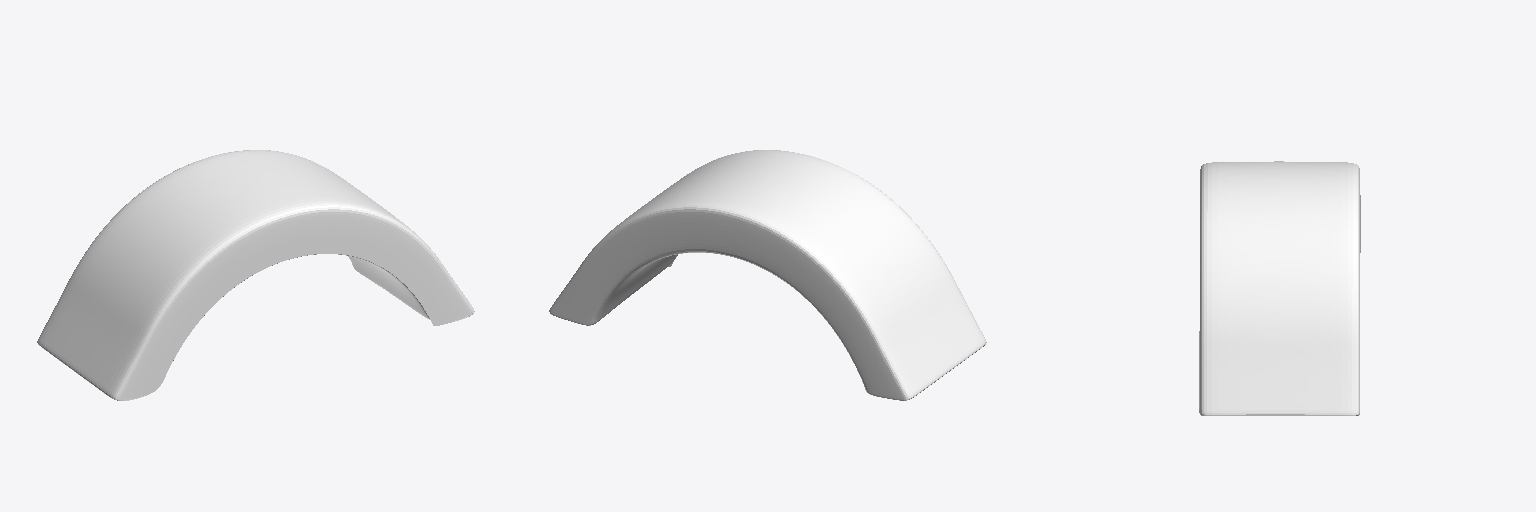
The model's file is base tavolo.obj.
3 renders of one model, left to right at view 1: azimuth 30°, elevation 25°; view 2: azimuth 150°, elevation 25°; view 3: azimuth 270°, elevation 25°, orthographic.
Visible parts, largest first — view 1: base_tavolo.1; view 2: base_tavolo.1; view 3: base_tavolo.1.
Part boxes in pixels (x1,y1,x2,y2): base_tavolo.1: (37,150,474,400); base_tavolo.1: (549,150,986,400); base_tavolo.1: (1199,161,1360,415).
Size of the model in its own units: 157 by 62.32 by 60.05.